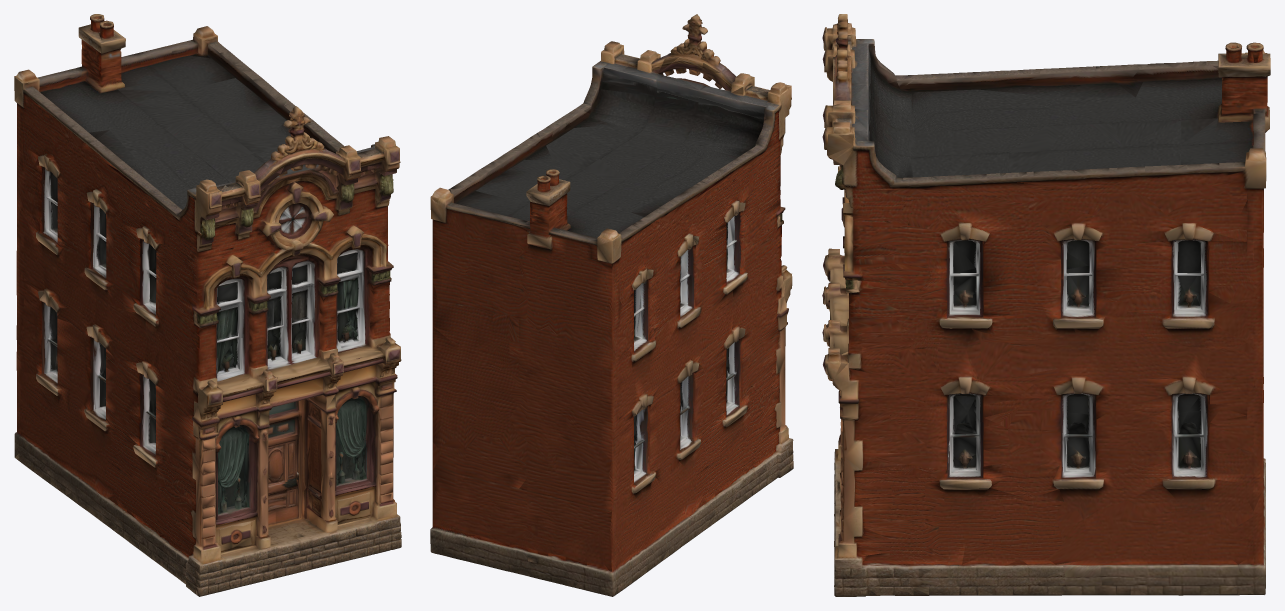
The model's file is PlymouthStore_Comparison_LOD2.fbx.
3 views of the same model, side by side, from view 1: azimuth 30°, elevation 25°; view 2: azimuth 150°, elevation 25°; view 3: azimuth 270°, elevation 25° (orthographic). The views are drawn at different scales.
Visible parts, largest first — view 1: PlymouthStore_LOD2; view 2: PlymouthStore_LOD2; view 3: PlymouthStore_LOD2.
Boxes of the visible parts, x1,y1,x2,y2 form: PlymouthStore_LOD2: [14, 14, 401, 596]; PlymouthStore_LOD2: [430, 14, 793, 596]; PlymouthStore_LOD2: [822, 14, 1270, 596].
Size of the model in its own units: 551 by 1200 by 925.
